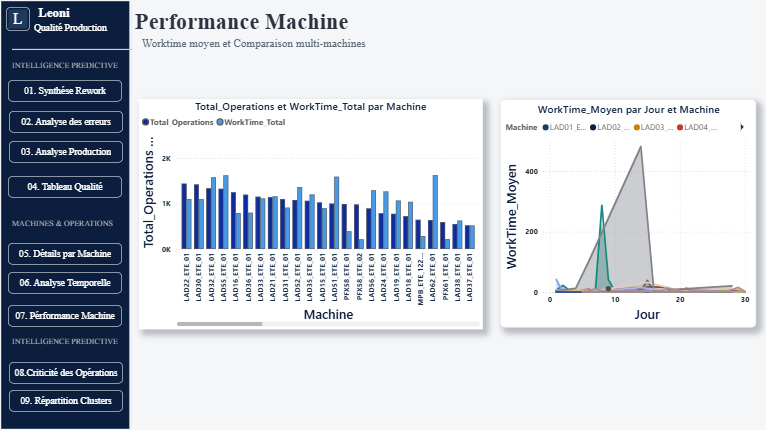

The dashboard page shown, as its layout file describes it:
{"tool":"powerbi","page":{"name":"Page 8","canvas":[1280,720],"ordinal":6},"visuals":[{"type":"lineChart","fields":{"Category":["Sheet1.Jour"],"Y":["Sheet1.WorkTime_Moyen"],"Series":["Sheet1.Machine"]},"box":[835.7,167.1,427.1,381.4],"z":0},{"type":"clusteredColumnChart","fields":{"Category":["Sheet1.Machine"],"Y":["Sheet1.Total_Operations","Sheet1.WorkTime_Total"]},"box":[232.9,167.1,572.9,384.3],"z":1000},{"type":"shape","box":[0,0,221.4,720],"z":2000},{"type":"shape","box":[11.4,12.9,40,40],"z":3000},{"type":"textbox","box":[51.4,7.1,80,45.7],"z":4000},{"type":"textbox","box":[17.1,35.7,204.3,38.6],"z":5000},{"type":"shape","box":[21.4,22.9,200,121.4],"z":6000},{"type":"actionButton","box":[15.7,134.3,190,35.7],"z":7000},{"type":"actionButton","box":[17.1,187.1,190,35.7],"z":8000},{"type":"actionButton","box":[17.1,237.1,190,35.7],"z":9000},{"type":"actionButton","box":[15.7,294.3,190,35.7],"z":10000},{"type":"actionButton","box":[15.7,407.1,190,35.7],"z":11000},{"type":"actionButton","box":[15.7,454.3,190,35.7],"z":12000},{"type":"actionButton","box":[15.7,510,190,35.7],"z":13000},{"type":"actionButton","box":[17.1,604.3,190,35.7],"z":14000},{"type":"actionButton","box":[17.1,651.4,190,35.7],"z":15000},{"type":"textbox","box":[17.1,557.1,188.6,30],"z":16000},{"type":"textbox","box":[17.1,360,188.6,30],"z":17000},{"type":"textbox","box":[17.1,97.1,194.3,30],"z":18000},{"type":"textbox","box":[232.9,58.6,477.1,52.9],"z":19000},{"type":"textbox","box":[221.4,11.4,1041.4,74.3],"z":20000}]}

Visuals, with their boxes on the page's 1280x720 design canvas (x1, y1, x2, y2). These are canvas units, not pixel positions in the 766x430 screenshot, which may show the page scaled, cropped or inside an application window:
lineChart - Sheet1.Jour x Sheet1.WorkTime_Moyen: x1=836 y1=167 x2=1263 y2=548
clusteredColumnChart - Sheet1.Machine x Sheet1.Total_Operations: x1=233 y1=167 x2=806 y2=551
shape: x1=0 y1=0 x2=221 y2=720
shape: x1=11 y1=13 x2=51 y2=53
textbox: x1=51 y1=7 x2=131 y2=53
textbox: x1=17 y1=36 x2=221 y2=74
shape: x1=21 y1=23 x2=221 y2=144
actionButton: x1=16 y1=134 x2=206 y2=170
actionButton: x1=17 y1=187 x2=207 y2=223
actionButton: x1=17 y1=237 x2=207 y2=273
actionButton: x1=16 y1=294 x2=206 y2=330
actionButton: x1=16 y1=407 x2=206 y2=443
actionButton: x1=16 y1=454 x2=206 y2=490
actionButton: x1=16 y1=510 x2=206 y2=546
actionButton: x1=17 y1=604 x2=207 y2=640
actionButton: x1=17 y1=651 x2=207 y2=687
textbox: x1=17 y1=557 x2=206 y2=587
textbox: x1=17 y1=360 x2=206 y2=390
textbox: x1=17 y1=97 x2=211 y2=127
textbox: x1=233 y1=59 x2=710 y2=112
textbox: x1=221 y1=11 x2=1263 y2=86
